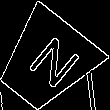N_SW: (14, 30, 78, 94)
